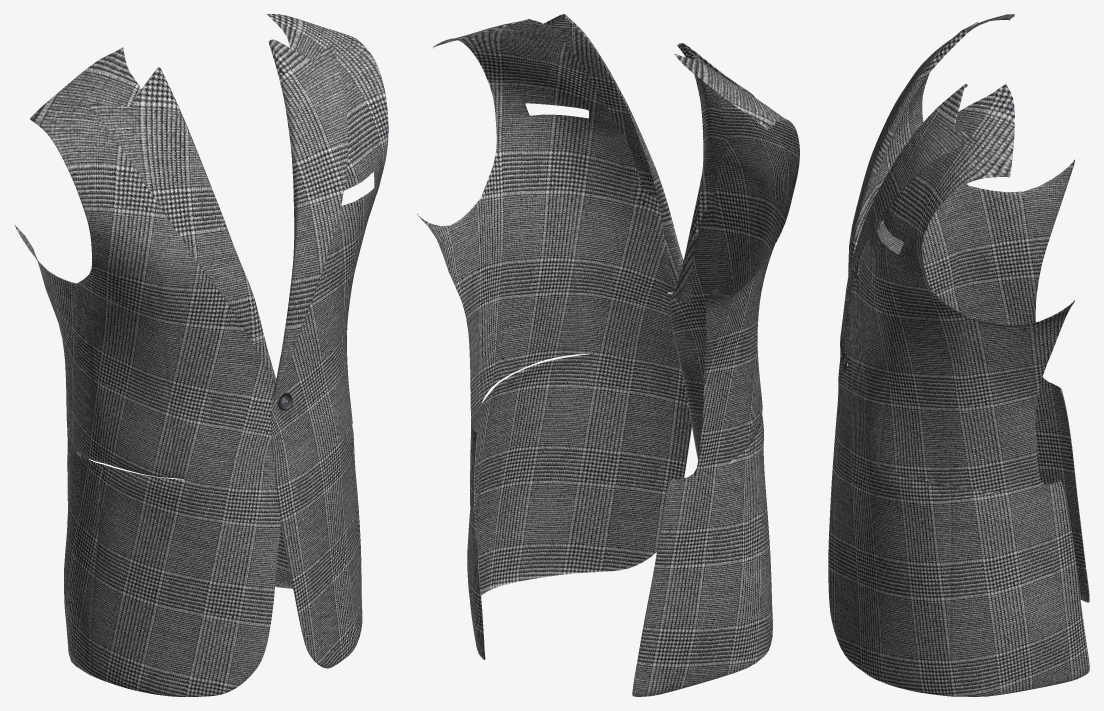
File: peaksinglebtn.glb
The picture shows the model from 3 angles, left to right: view 1: azimuth 30°, elevation 25°; view 2: azimuth 150°, elevation 25°; view 3: azimuth 270°, elevation 25°; orthographic projection. The views are drawn at different scales.
Visible parts, largest first — view 1: peak_single_button1; view 2: peak_single_button1; view 3: peak_single_button1.
Part boxes in pixels (x1,y1,x2,y2): peak_single_button1: (15,14,388,696); peak_single_button1: (417,14,799,696); peak_single_button1: (828,14,1089,696).
Size of the model in its own units: 0.0585 by 0.1024 by 0.0411.
Materials: 4 (3 with a texture image).
